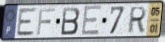7: (109, 5, 127, 36)
B: (60, 7, 81, 37)
E: (80, 5, 103, 38), (15, 7, 38, 37)
F: (36, 7, 56, 37)
R: (126, 6, 148, 35)
